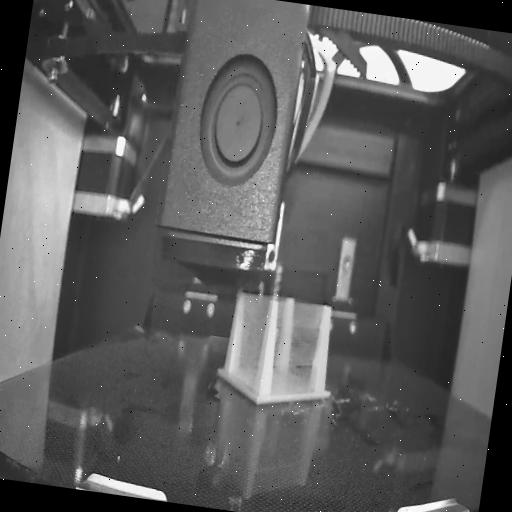stringing: (266, 297, 330, 406), (226, 288, 270, 396)
